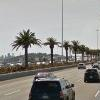Car: (28, 63, 76, 100)
